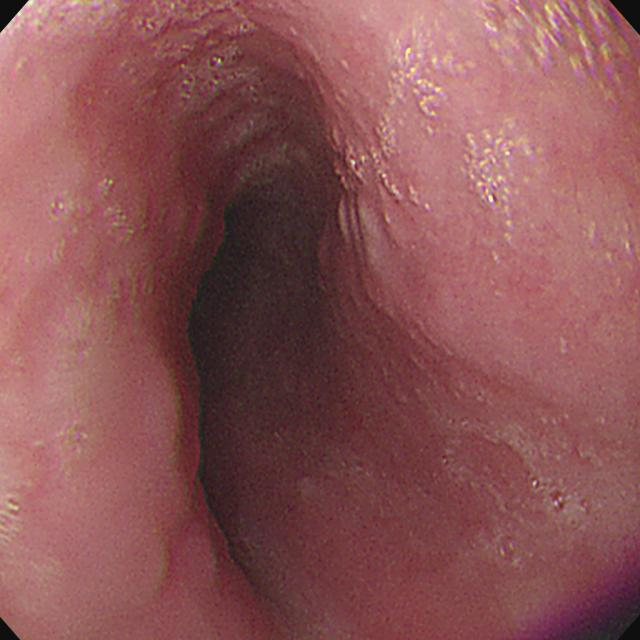E: (168, 198, 306, 588)
T: (372, 17, 456, 207), (465, 119, 542, 229)
